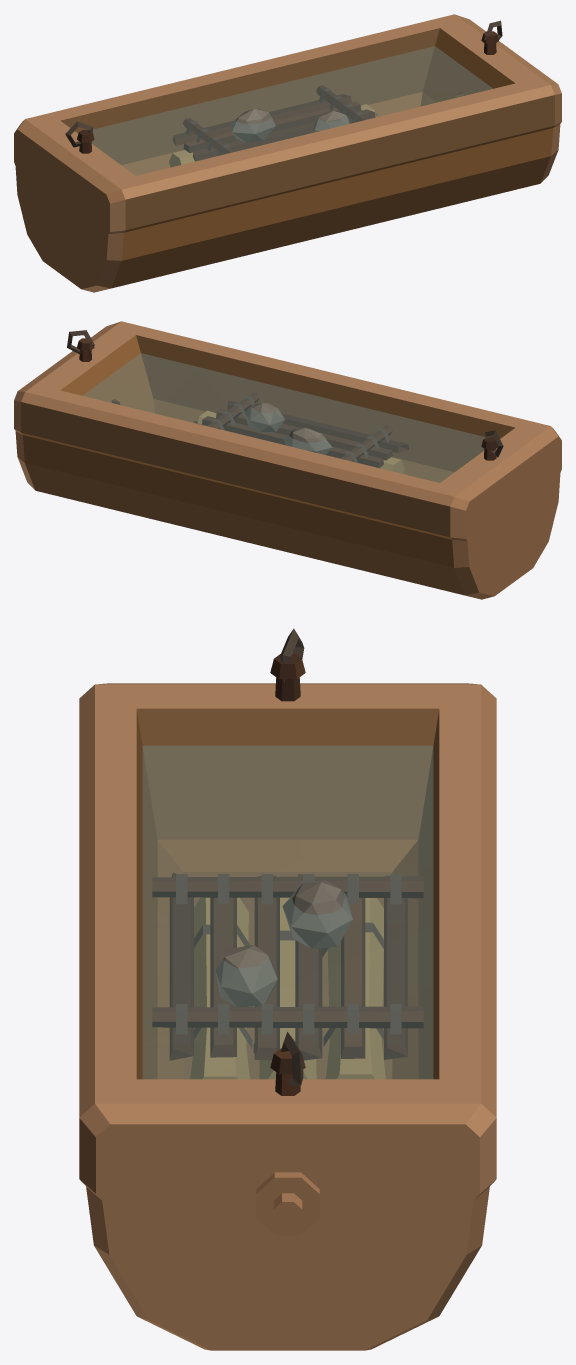
File: pf-plant-fibre-retting-trough-0e8969.glb
3 views of the same model, one above another, from view 1: azimuth 30°, elevation 25°; view 2: azimuth 150°, elevation 25°; view 3: azimuth 270°, elevation 25° (orthographic). The views are drawn at different scales.
Parts seen in each view (by area): view 1: trough-body, water-surface, grate-mesh, stones-mesh, stalk-bundles; view 2: trough-body, water-surface, grate-mesh, stones-mesh, stalk-bundles; view 3: trough-body, water-surface, grate-mesh, stalk-bundles, stones-mesh, plug-mesh.
Boxes of the visible parts, box(x1,y1,x2,y2) form: trough-body: box(14, 14, 561, 292); water-surface: box(92, 46, 492, 175); grate-mesh: box(173, 85, 375, 161); stones-mesh: box(231, 108, 349, 142); stalk-bundles: box(169, 104, 378, 167); trough-body: box(14, 321, 561, 599); water-surface: box(83, 353, 485, 482); grate-mesh: box(196, 392, 408, 467); stones-mesh: box(245, 402, 332, 454); stalk-bundles: box(193, 410, 404, 473); trough-body: box(79, 628, 496, 1350); water-surface: box(143, 746, 432, 1078); grate-mesh: box(152, 873, 423, 1060); stalk-bundles: box(190, 897, 385, 1079); stones-mesh: box(215, 880, 352, 1006); plug-mesh: box(256, 1172, 319, 1235).
Bounding box in the file's own units: 2.07 × 0.6499 × 0.8.
